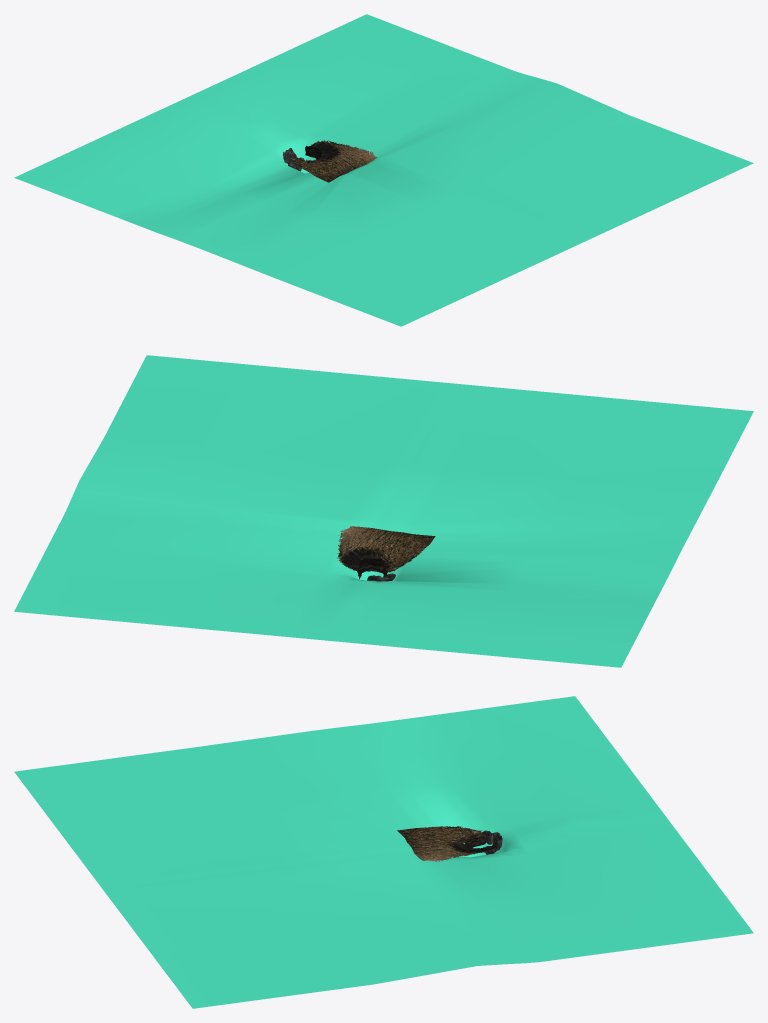
The model's file is agua y ciudad.fbx.
3 views of the same model, one above another, from view 1: azimuth 30°, elevation 25°; view 2: azimuth 150°, elevation 25°; view 3: azimuth 270°, elevation 25° (orthographic). The views are drawn at different scales.
Parts seen in each view (by area): view 1: Plano agua.001, Ciudad; view 2: Plano agua.001, Ciudad; view 3: Plano agua.001, Ciudad.
Boxes of the visible parts, x1,y1,x2,y2 form: Plano agua.001: (14, 14, 753, 326); Ciudad: (289, 140, 376, 182); Plano agua.001: (14, 355, 753, 667); Ciudad: (337, 526, 435, 572); Plano agua.001: (14, 696, 753, 1008); Ciudad: (397, 826, 497, 861).
Bounding box in the file's own units: 2609578 × 140892 × 2609578.
